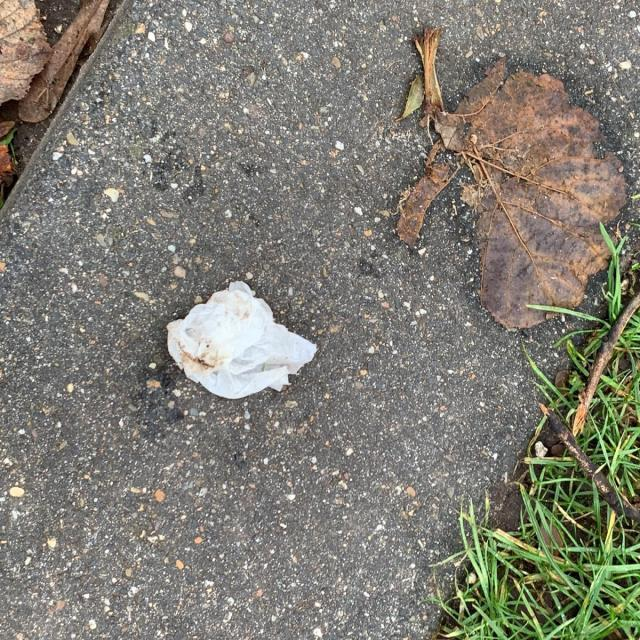Paper: (165, 278, 321, 400)
